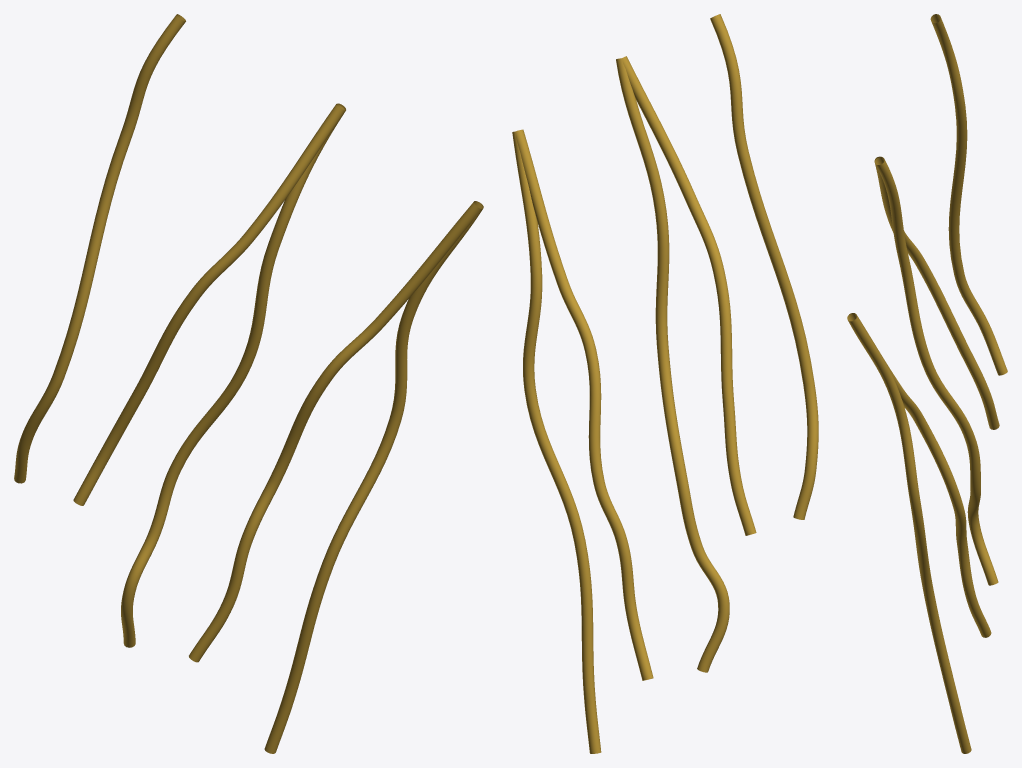
3 views of the same model, side by side, from view 1: azimuth 30°, elevation 25°; view 2: azimuth 150°, elevation 25°; view 3: azimuth 270°, elevation 25° (orthographic). The views are drawn at different scales.
Parts seen in each view (by area): view 1: 右侧足底外侧神经趾足底固有神经; view 2: 右侧足底外侧神经趾足底固有神经; view 3: 右侧足底外侧神经趾足底固有神经.
Part boxes in pixels (box(x1,y1,x2,y2)): 右侧足底外侧神经趾足底固有神经: box(14, 14, 483, 753); 右侧足底外侧神经趾足底固有神经: box(512, 14, 818, 753); 右侧足底外侧神经趾足底固有神经: box(847, 14, 1007, 753).
Size of the model in its own units: 0.0551 by 0.1056 by 0.0223.
